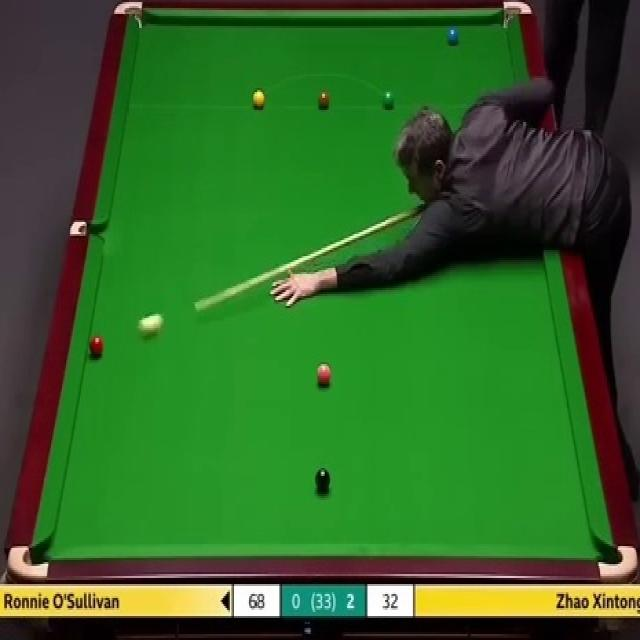pocket: (596, 537, 637, 585), (6, 542, 53, 582), (500, 0, 532, 32), (110, 2, 147, 29), (69, 222, 106, 236)
